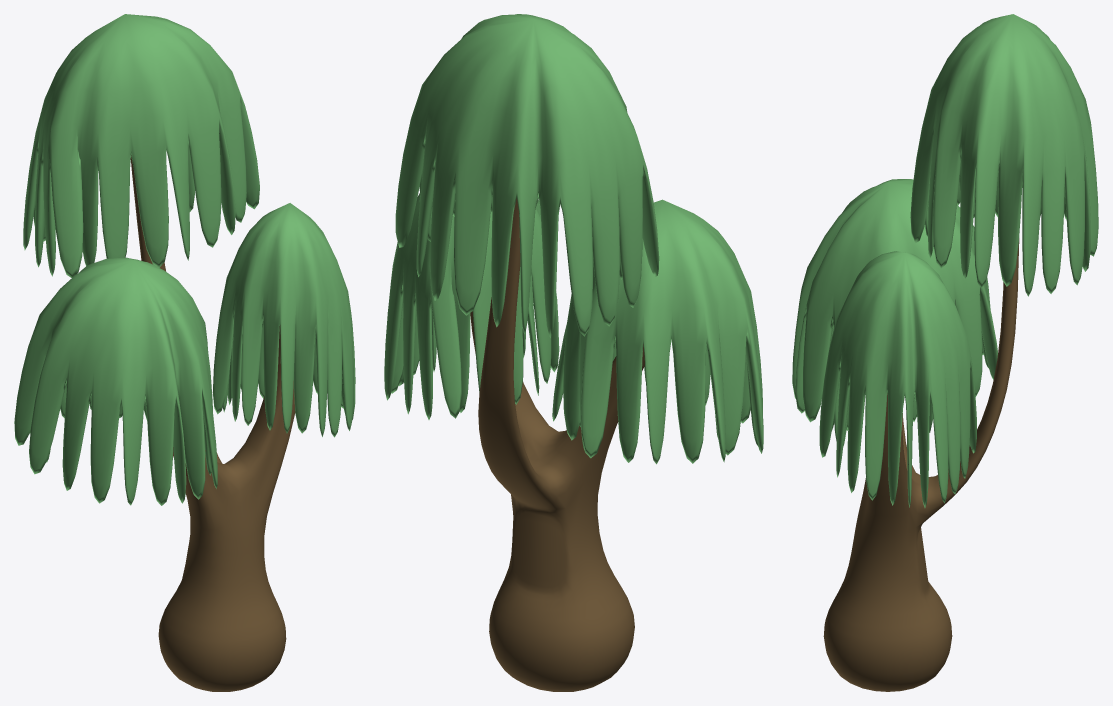
File: Tree 5.fbx
3 views of the same model, side by side, from view 1: azimuth 30°, elevation 25°; view 2: azimuth 150°, elevation 25°; view 3: azimuth 270°, elevation 25° (orthographic). The views are drawn at different scales.
Visible parts, largest first — view 1: group22_pasted__pCylinder1; view 2: group22_pasted__pCylinder1; view 3: group22_pasted__pCylinder1.
Part boxes in pixels (x1=…): group22_pasted__pCylinder1: x1=14, y1=14, x2=355, y2=691; group22_pasted__pCylinder1: x1=384, y1=14, x2=763, y2=691; group22_pasted__pCylinder1: x1=792, y1=14, x2=1098, y2=691.
Size of the model in its own units: 2.27 by 4.28 by 1.83.
